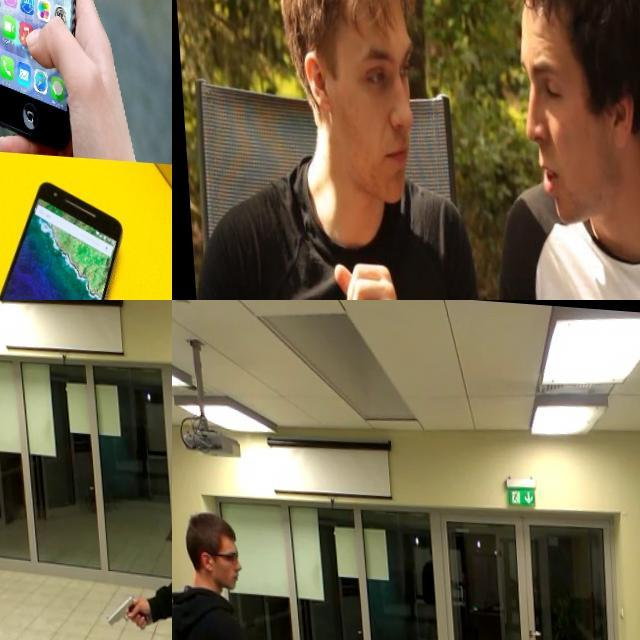gun-knife-thesis - v11 Yolov5 augmented: (91, 579, 147, 626)
